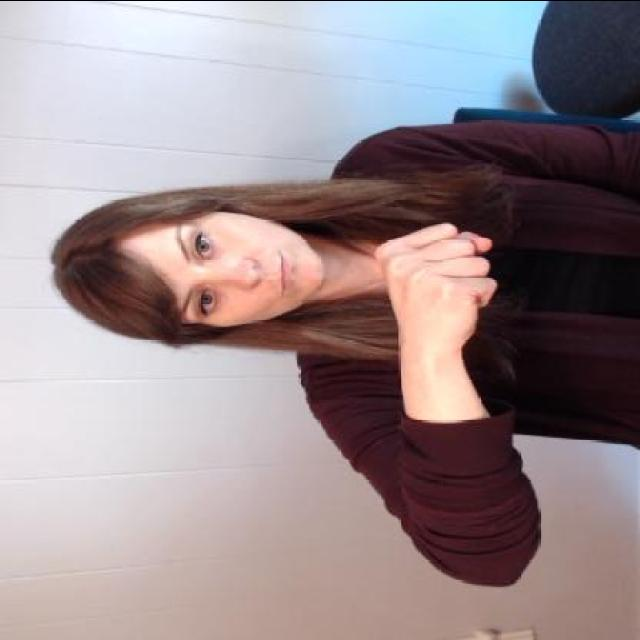Rock: (374, 216, 503, 356)
